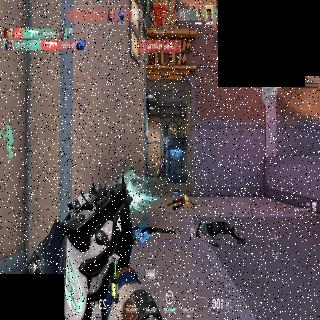ENEMY-BODY: (156, 159, 164, 181)
ENEMY-HEAD: (161, 160, 163, 163)
